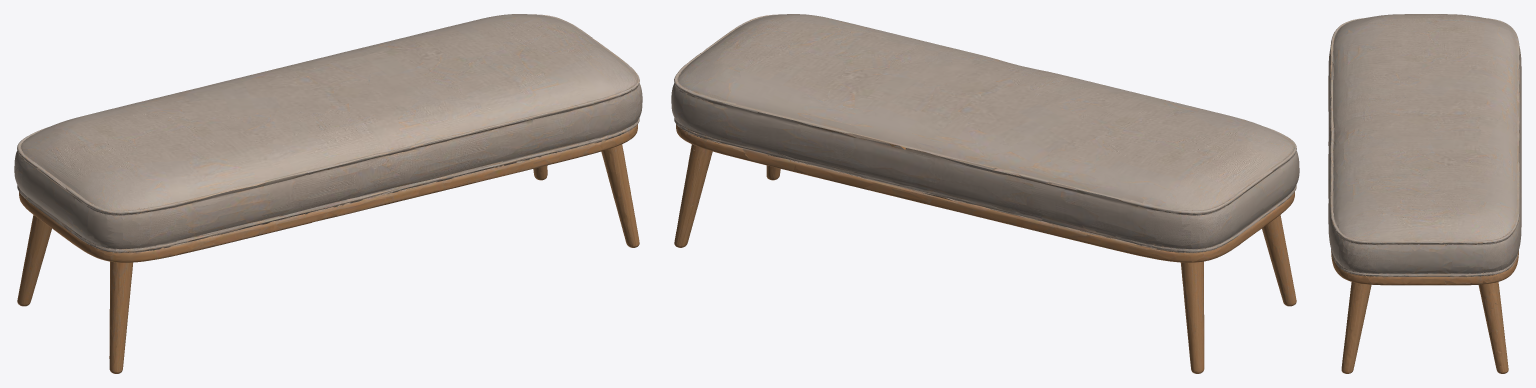
The picture shows the model from 3 angles, left to right: view 1: azimuth 30°, elevation 25°; view 2: azimuth 150°, elevation 25°; view 3: azimuth 270°, elevation 25°; orthographic projection. The views are drawn at different scales.
Parts seen in each view (by area): view 1: Mesh_0; view 2: Mesh_0; view 3: Mesh_0.
Part boxes in pixels (<box>): Mesh_0: <box>14,14,642,373</box>; Mesh_0: <box>671,14,1299,373</box>; Mesh_0: <box>1328,14,1521,373</box>.
Size of the model in its own units: 1.26 by 0.3948 by 0.45.
Materials: 1 (1 with a texture image).
